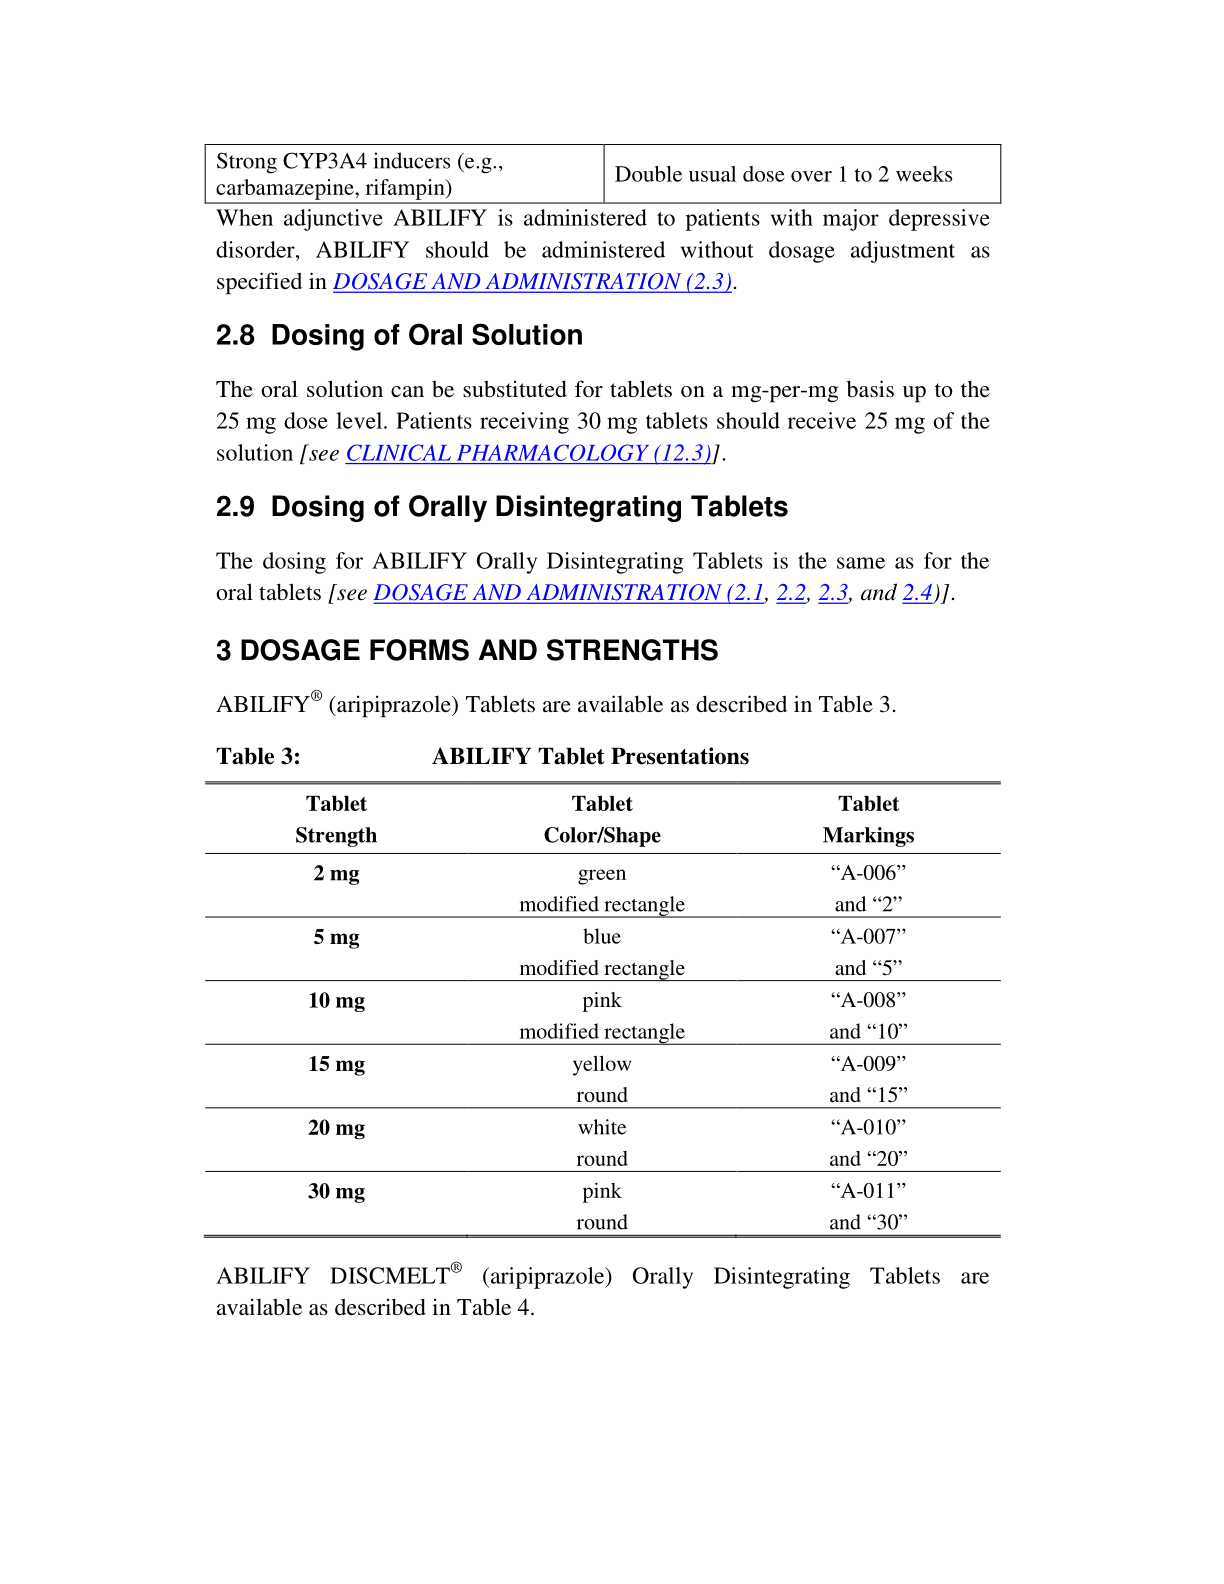full_lined: (203, 143, 1003, 204)
partial_lined: (204, 780, 1003, 1239)
